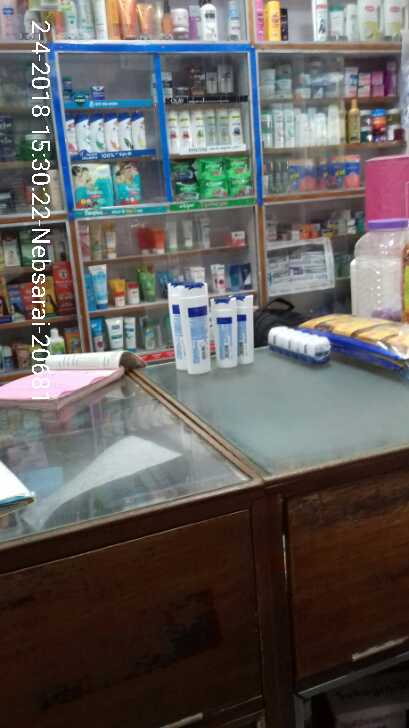vicks: (63, 78, 106, 100)
